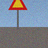sign: (8, 0, 27, 37)
